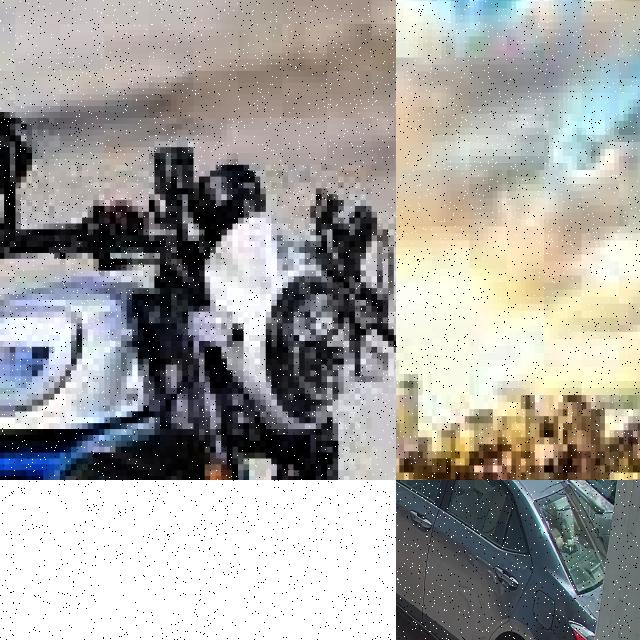bike: (0, 106, 396, 480), (0, 480, 219, 640)
car: (396, 480, 605, 640), (537, 480, 621, 538)
